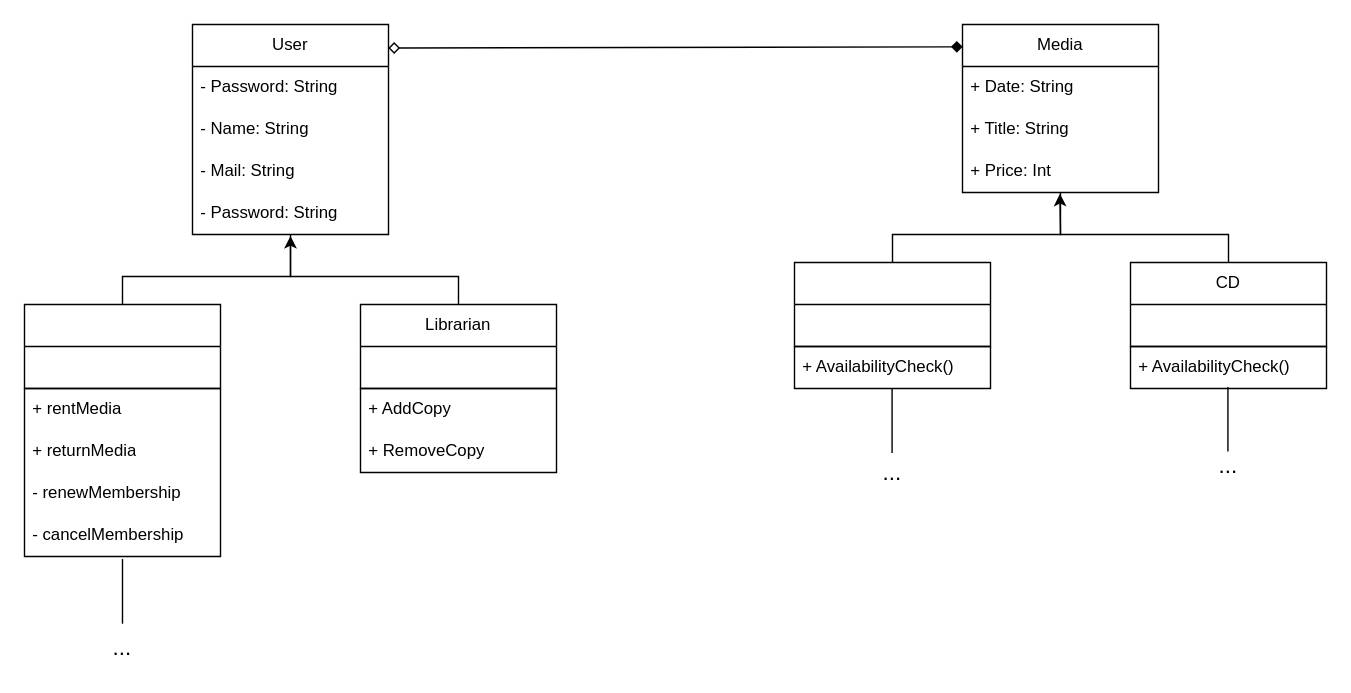
This 1351x693 diagram has some shape labels left out. The centre of each missing label's shape, as x and y in pixels:
"Books" belongs at [891,303].
"Customer" belongs at [121,345].
